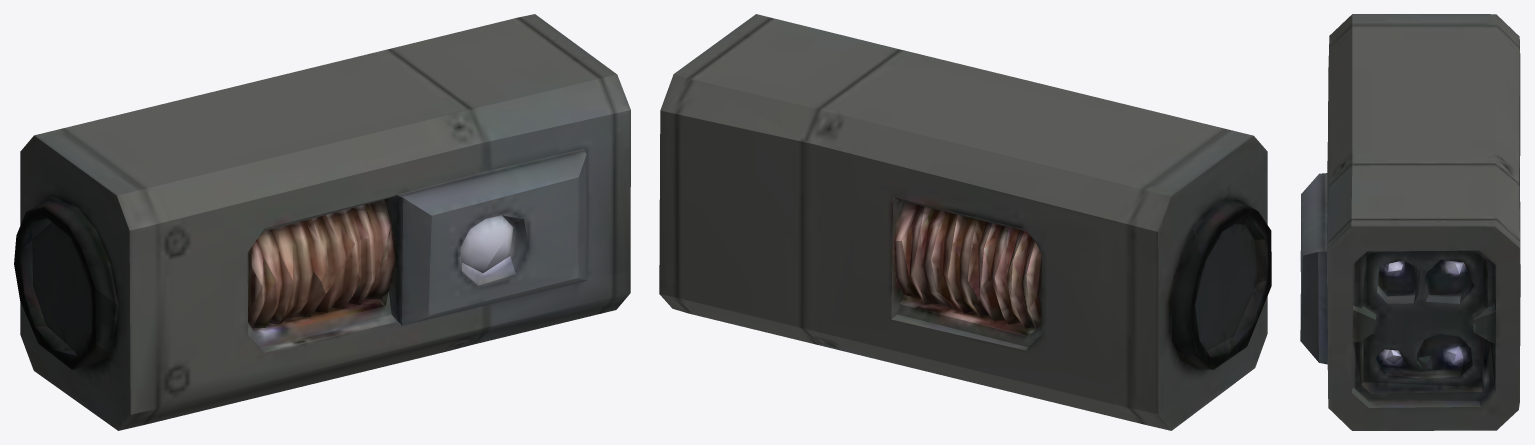
Rendered from core-beam.glb.
3 renders of one model, left to right at view 1: azimuth 30°, elevation 25°; view 2: azimuth 150°, elevation 25°; view 3: azimuth 270°, elevation 25°, orthographic. The views are drawn at different scales.
Parts seen in each view (by area): view 1: low; view 2: low; view 3: low.
Part boxes in pixels (x1,y1,x2,y2): low: (14,14,630,430); low: (659,14,1271,430); low: (1300,14,1520,430).
Bounding box in the file's own units: 0.2994 × 0.1299 × 0.1262.
Materials: 1 (1 with a texture image).
